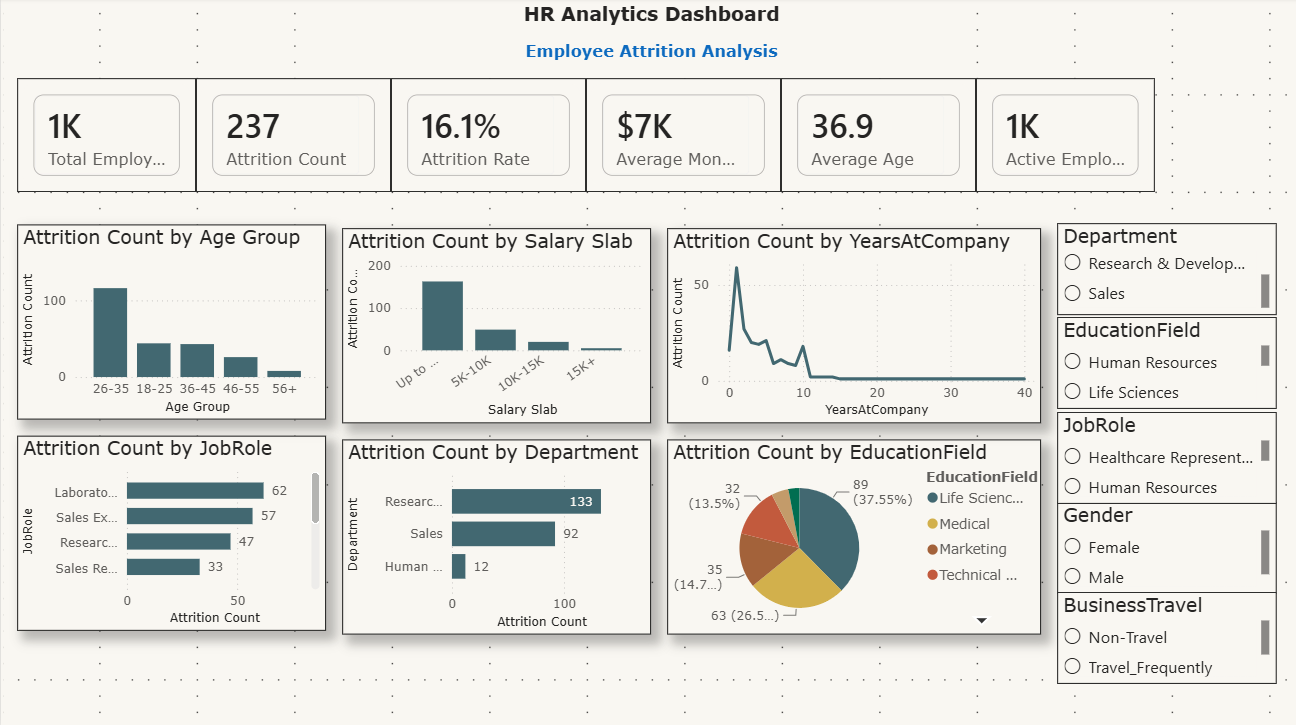

This screenshot's page, from the dashboard's own definition file:
{"tool":"powerbi","page":{"name":"Page 1","canvas":[1280,720],"ordinal":0},"visuals":[{"type":"textbox","box":[360,0,560,80],"z":0},{"type":"cardVisual","fields":{"Data":["measure.Total Employees"]},"box":[16,80,176,112],"z":1000},{"type":"cardVisual","fields":{"Data":["measure.Attrition Count"]},"box":[192,80,192,112],"z":2000},{"type":"cardVisual","fields":{"Data":["measure.Average Age"]},"box":[768,80,192,112],"z":3000},{"type":"cardVisual","fields":{"Data":["measure.Average Monthly Income"]},"box":[576,80,192,112],"z":4000},{"type":"cardVisual","fields":{"Data":["measure.Attrition Rate"]},"box":[384,80,192,112],"z":5000},{"type":"cardVisual","fields":{"Data":["measure.Active Employees"]},"box":[960,80,176,112],"z":6000},{"type":"clusteredBarChart","fields":{"Category":["HR_Employee.Department"],"Y":["measure.Attrition Count"]},"box":[336,436.1,304,192],"z":7000},{"type":"clusteredBarChart","fields":{"Category":["HR_Employee.JobRole"],"Y":["measure.Attrition Count"]},"box":[16,432,304,192],"z":9000},{"type":"clusteredColumnChart","fields":{"Category":["HR_Employee.Age Group"],"Y":["measure.Attrition Count"]},"box":[16,224,304,192],"z":10000},{"type":"clusteredColumnChart","fields":{"Y":["measure.Attrition Count"],"Category":["HR_Employee.Salary Slab"]},"box":[336,228.1,304,192],"z":11000},{"type":"pieChart","fields":{"Category":["HR_Employee.EducationField"],"Y":["measure.Attrition Count"]},"box":[656,436.1,368,192],"z":12000},{"type":"lineChart","fields":{"Category":["HR_Employee.YearsAtCompany"],"Y":["measure.Attrition Count"]},"box":[656,228.1,368,192],"z":13000},{"type":"listSlicer","fields":{"Values":["HR_Employee.Gender"]},"box":[1040,496.9,215.9,90],"z":14000},{"type":"listSlicer","fields":{"Values":["HR_Employee.Department"]},"box":[1040,222.4,215.9,90],"z":15000},{"type":"listSlicer","fields":{"Values":["HR_Employee.EducationField"]},"box":[1040,314.7,215.9,90],"z":16000},{"type":"listSlicer","fields":{"Values":["HR_Employee.JobRole"]},"box":[1040,408.3,215.9,90],"z":17000},{"type":"listSlicer","fields":{"Values":["HR_Employee.BusinessTravel"]},"box":[1040,585.5,215.9,90],"z":18000}]}

Visuals, with their boxes in screenshot pixels (x1, y1, x2, y2), scaled from the page's 1280x720 canvas onto the 1296x725 screenshot:
textbox: 364, 0, 932, 81
cardVisual - measure.Total Employees: 16, 81, 194, 193
cardVisual - measure.Attrition Count: 194, 81, 389, 193
cardVisual - measure.Average Age: 778, 81, 972, 193
cardVisual - measure.Average Monthly Income: 583, 81, 778, 193
cardVisual - measure.Attrition Rate: 389, 81, 583, 193
cardVisual - measure.Active Employees: 972, 81, 1150, 193
clusteredBarChart - HR_Employee.Department x measure.Attrition Count: 340, 439, 648, 632
clusteredBarChart - HR_Employee.JobRole x measure.Attrition Count: 16, 435, 324, 628
clusteredColumnChart - HR_Employee.Age Group x measure.Attrition Count: 16, 226, 324, 419
clusteredColumnChart - measure.Attrition Count x HR_Employee.Salary Slab: 340, 230, 648, 423
pieChart - HR_Employee.EducationField x measure.Attrition Count: 664, 439, 1037, 632
lineChart - HR_Employee.YearsAtCompany x measure.Attrition Count: 664, 230, 1037, 423
listSlicer - HR_Employee.Gender: 1053, 500, 1272, 591
listSlicer - HR_Employee.Department: 1053, 224, 1272, 315
listSlicer - HR_Employee.EducationField: 1053, 317, 1272, 408
listSlicer - HR_Employee.JobRole: 1053, 411, 1272, 502
listSlicer - HR_Employee.BusinessTravel: 1053, 590, 1272, 680
